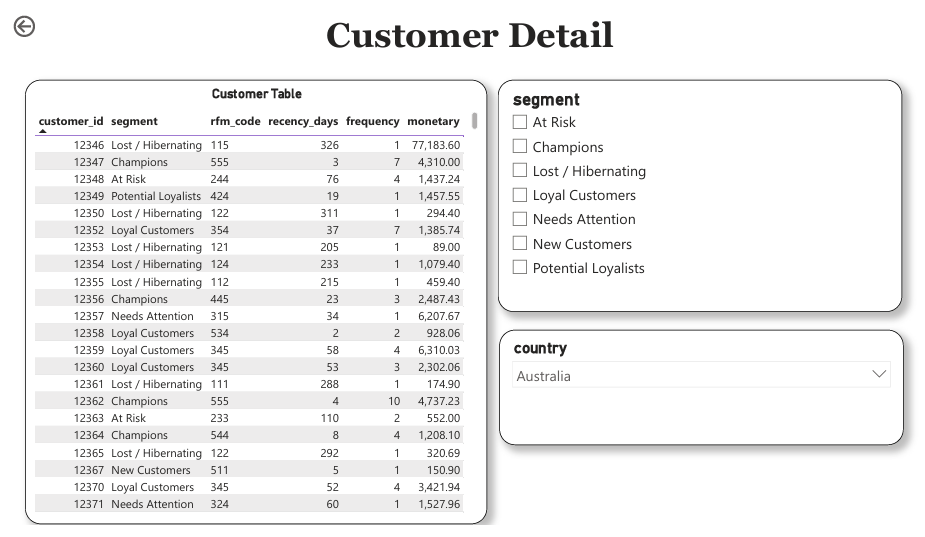

Layout of this report page (visuals, bound fields, positions):
{"tool":"powerbi","page":{"name":"Customer_Detail","canvas":[1280,720],"ordinal":3},"visuals":[{"type":"textbox","box":[9.5,0,1270.4,79.4],"z":0},{"type":"actionButton","box":[0,0,100,40],"z":1000},{"type":"tableEx","title":"Customer Table","fields":{"Values":["Customers.customer_id","Customers.segment","Customers.rfm_code","Customers.recency_days","Customers.frequency","Customers.monetary"]},"box":[20.6,95.3,647.9,624.1],"z":2000},{"type":"slicer","fields":{"Values":["Customers.segment"]},"box":[684.4,95.3,566.9,325.5],"z":3000},{"type":"slicer","fields":{"Values":["Transactions.country"]},"box":[686,446.2,566.9,162],"z":4000}]}

Visuals, with their boxes on the page's 1280x720 design canvas (x1, y1, x2, y2). These are canvas units, not pixel positions in the 925x537 screenshot, which may show the page scaled, cropped or inside an application window:
textbox: 10/0/1280/79
actionButton: 0/0/100/40
"Customer Table" tableEx: 21/95/668/719
slicer - Customers.segment: 684/95/1251/421
slicer - Transactions.country: 686/446/1253/608
